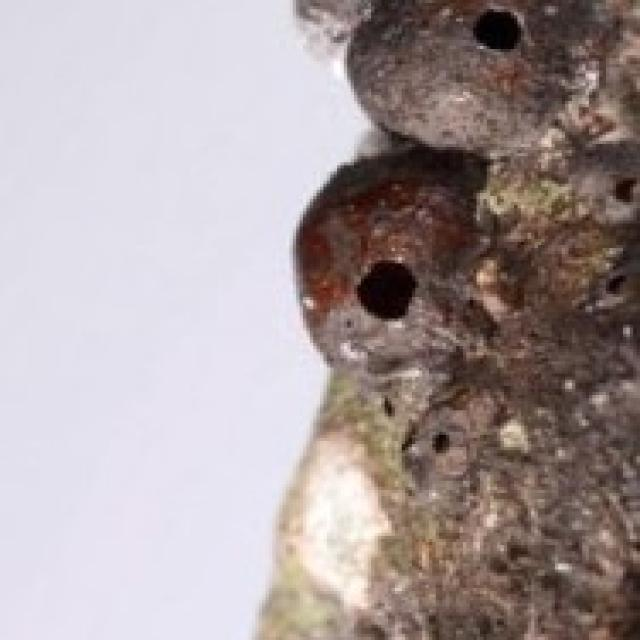BlackScale: (296, 144, 490, 395), (348, 0, 620, 168)
